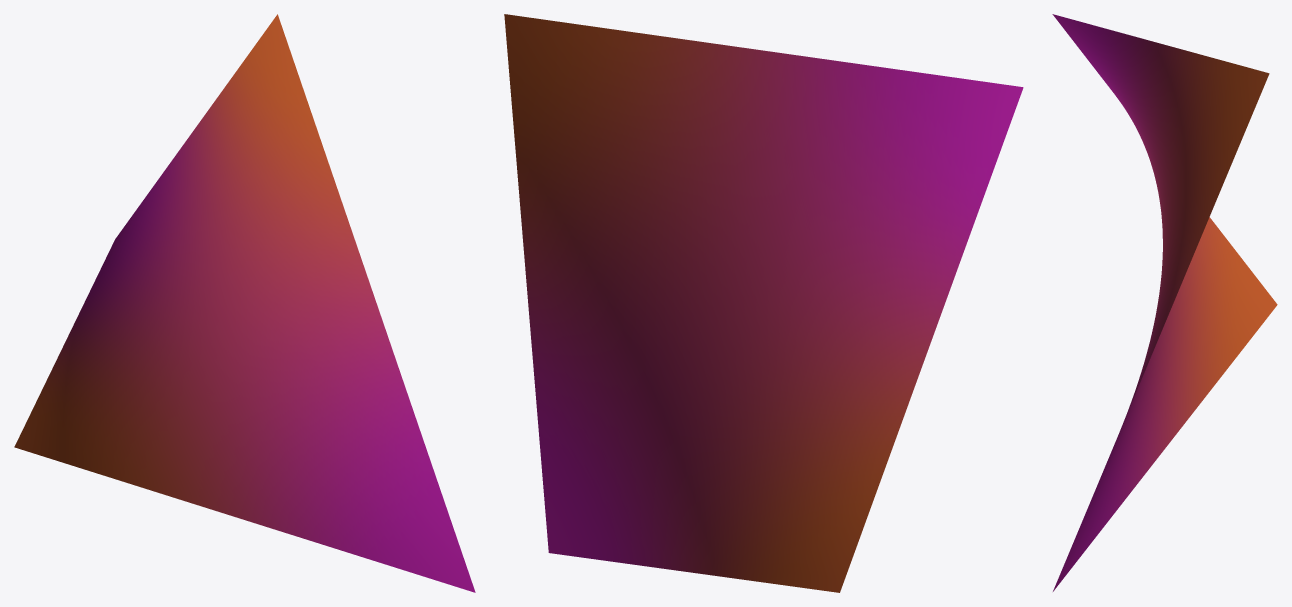
The model's file is colored_mesh.fbx.
3 renders of one model, left to right at view 1: azimuth 30°, elevation 25°; view 2: azimuth 150°, elevation 25°; view 3: azimuth 270°, elevation 25°, orthographic. The views are drawn at different scales.
Parts seen in each view (by area): view 1: Object_1; view 2: Object_1; view 3: Object_1.
Part boxes in pixels (x1=…): Object_1: x1=14, y1=14, x2=475, y2=592; Object_1: x1=504, y1=14, x2=1023, y2=592; Object_1: x1=1052, y1=14, x2=1277, y2=591.
Bounding box in the file's own units: 38.2 × 22.06 × 52.05.
